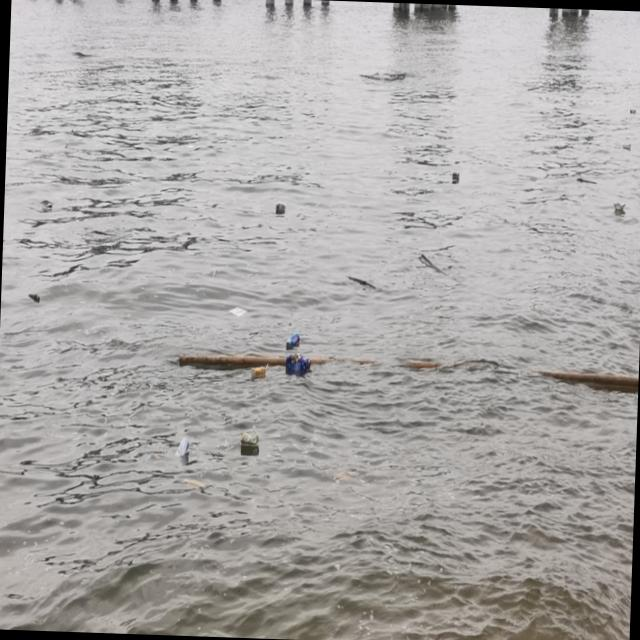can: (174, 436, 190, 458), (286, 333, 299, 347), (452, 171, 458, 177)
foam: (612, 200, 625, 210), (622, 142, 630, 148)
plastic bottle: (229, 305, 246, 318)
unknow: (284, 352, 311, 373), (334, 468, 355, 482), (250, 364, 268, 378), (182, 477, 204, 488), (240, 430, 257, 444), (28, 291, 38, 301), (276, 204, 285, 212)
